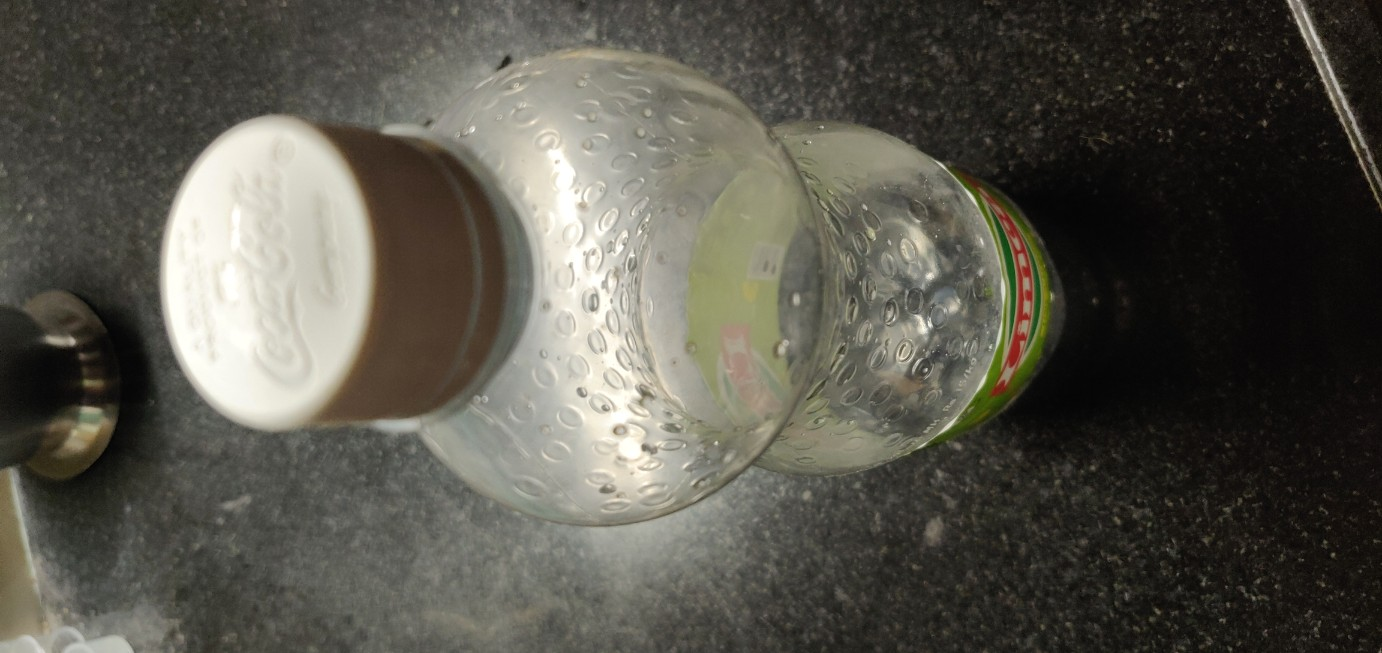Electronics: (113, 24, 1081, 544)
